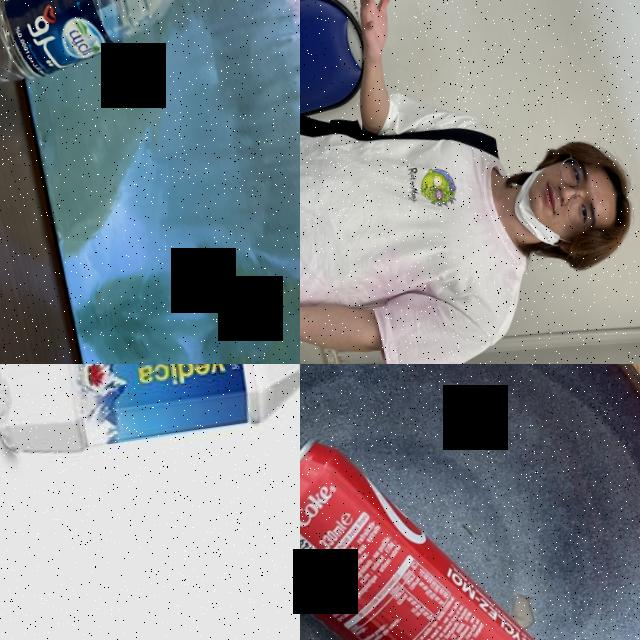bottle: (0, 0, 256, 132), (0, 364, 300, 465)
can: (300, 407, 565, 640)
